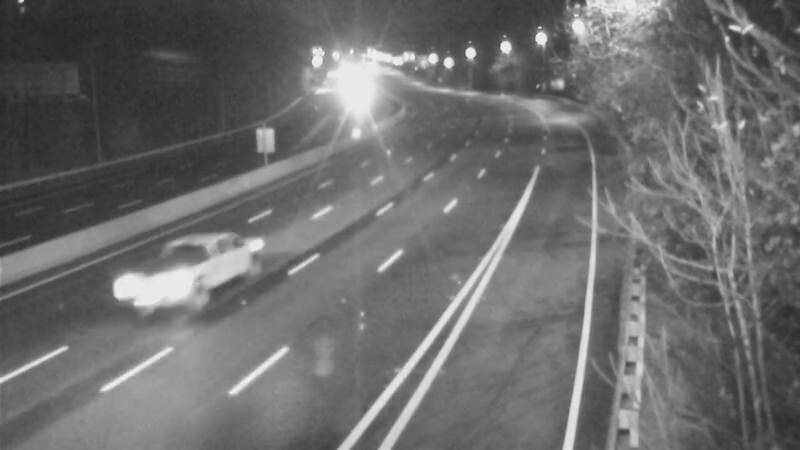vehicle: (136, 236, 216, 316)
